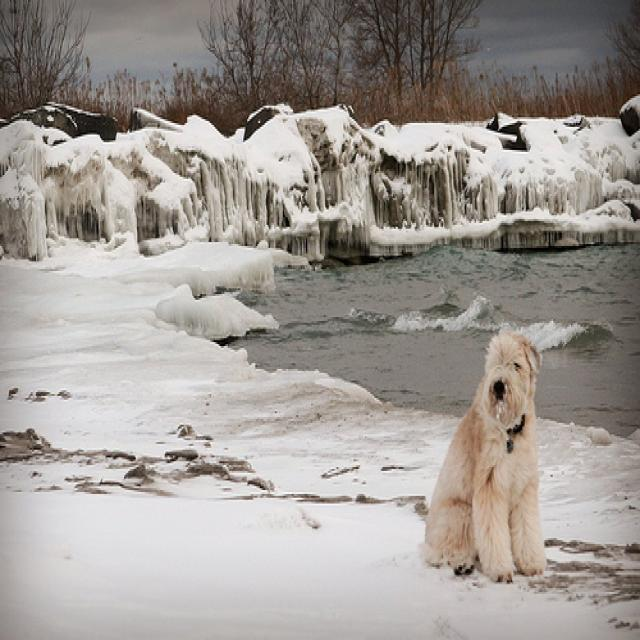dog-wheaten_terrier: (411, 311, 549, 590)
